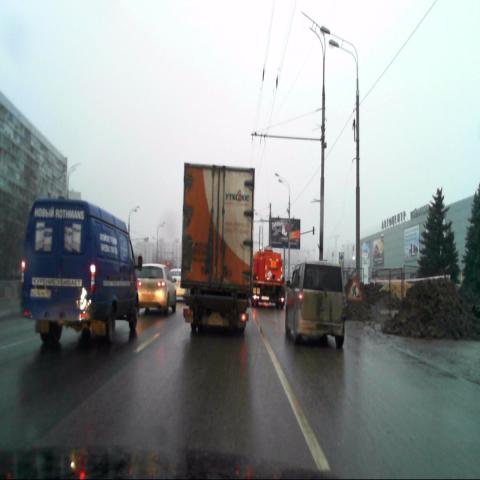1_25: (346, 275, 362, 304)
